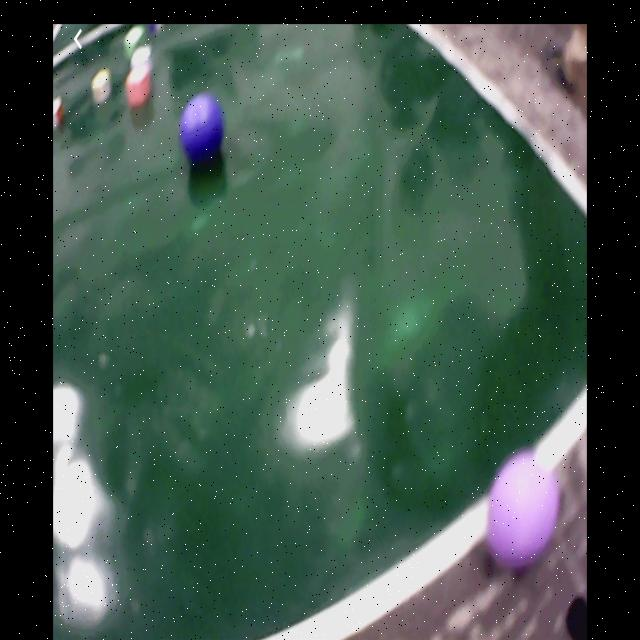ball: (486, 451, 561, 567), (179, 92, 227, 159)
